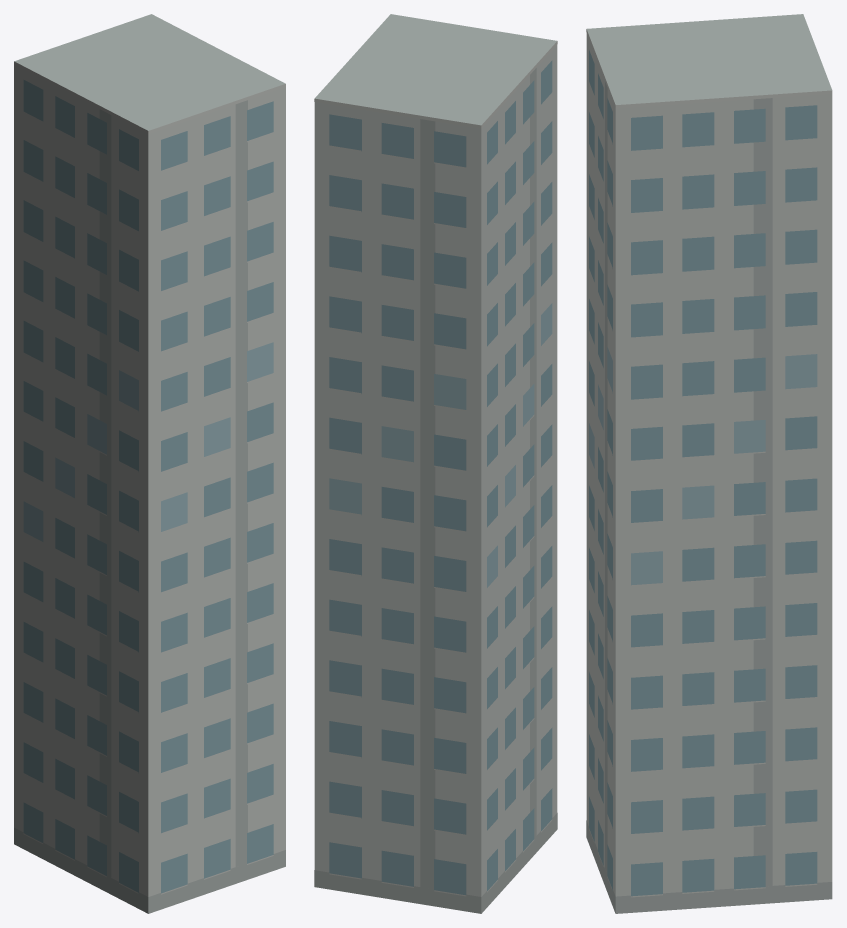
File: residential-e14bbee1-5df9-499a-8693-94e4a91ac882.glb
The picture shows the model from 3 angles, left to right: view 1: azimuth 30°, elevation 25°; view 2: azimuth 150°, elevation 25°; view 3: azimuth 270°, elevation 25°; orthographic projection. The views are drawn at different scales.
Parts seen in each view (by area): view 1: residential-e14bbee1-5df9-499a-8693-94e4a91ac882.tmp; view 2: residential-e14bbee1-5df9-499a-8693-94e4a91ac882.tmp; view 3: residential-e14bbee1-5df9-499a-8693-94e4a91ac882.tmp.
Boxes of the visible parts, bbox=[...] form: residential-e14bbee1-5df9-499a-8693-94e4a91ac882.tmp: bbox=[14, 14, 285, 913]; residential-e14bbee1-5df9-499a-8693-94e4a91ac882.tmp: bbox=[314, 14, 557, 913]; residential-e14bbee1-5df9-499a-8693-94e4a91ac882.tmp: bbox=[586, 14, 832, 913].
Size of the model in its own units: 13.55 by 56 by 15.44.
